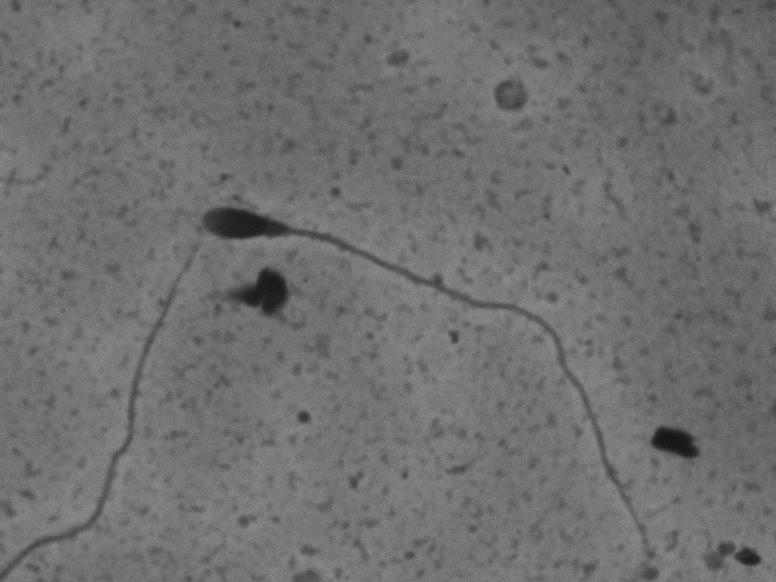Abnormal: (183, 194, 668, 569)
